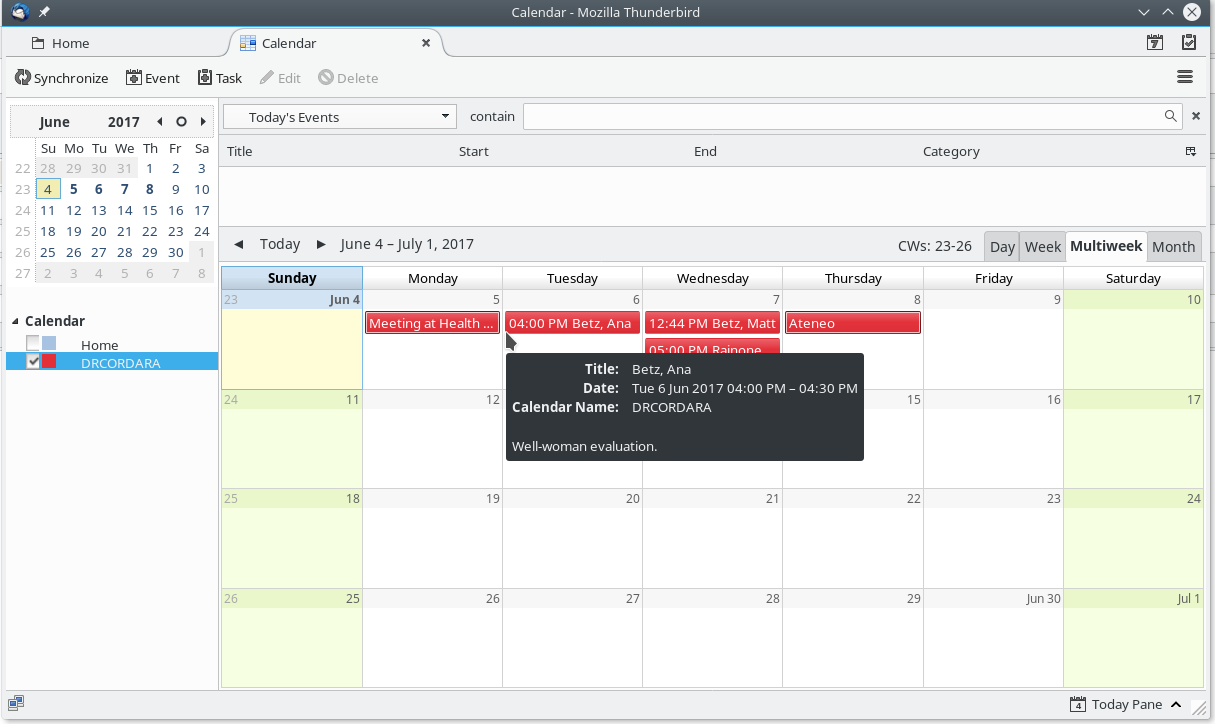button: (2, 27, 228, 55), (228, 27, 450, 55), (365, 309, 501, 334), (645, 310, 781, 334), (506, 310, 641, 334), (785, 311, 921, 334), (1066, 230, 1147, 263), (646, 338, 781, 354), (14, 67, 109, 87), (1148, 230, 1202, 263), (1019, 230, 1065, 263), (983, 230, 1019, 263), (317, 68, 379, 86), (125, 68, 180, 86), (197, 68, 243, 86), (259, 68, 302, 85), (10, 2, 30, 22), (1182, 2, 1202, 21), (1175, 67, 1195, 85), (1146, 33, 1164, 50), (1181, 33, 1197, 50), (1190, 700, 1207, 715), (25, 352, 39, 369), (41, 353, 56, 368), (1136, 5, 1152, 19), (1160, 5, 1176, 19), (1183, 144, 1199, 158), (25, 334, 39, 349), (231, 238, 245, 252), (37, 5, 50, 19), (42, 335, 55, 349), (314, 238, 327, 252), (1169, 698, 1183, 711), (420, 37, 433, 49), (1190, 110, 1202, 122), (175, 115, 187, 127), (439, 110, 452, 121), (198, 116, 208, 128), (155, 115, 163, 127), (10, 317, 19, 326)
common: (510, 438, 658, 454), (338, 236, 473, 253), (247, 109, 343, 126), (897, 237, 974, 254), (921, 142, 984, 160), (1090, 698, 1164, 712), (81, 357, 162, 369), (257, 236, 301, 254), (469, 109, 516, 123), (457, 143, 493, 159), (328, 291, 362, 307), (1025, 591, 1061, 606), (225, 143, 256, 159), (691, 142, 720, 159), (38, 114, 70, 129), (107, 115, 140, 129), (80, 339, 118, 351), (1176, 591, 1201, 607), (1184, 290, 1201, 310), (222, 590, 239, 606), (221, 292, 240, 306), (625, 490, 641, 506), (224, 393, 241, 408), (1186, 392, 1203, 407), (223, 491, 240, 506), (1185, 491, 1202, 506), (346, 392, 361, 408), (1047, 392, 1063, 407), (485, 491, 501, 506), (764, 491, 780, 506), (905, 591, 921, 606), (344, 592, 362, 605), (486, 393, 501, 408), (906, 392, 921, 407), (346, 491, 361, 506), (906, 491, 921, 506), (1046, 491, 1061, 506), (624, 591, 640, 605), (484, 592, 501, 605), (764, 592, 781, 605), (771, 291, 781, 307), (631, 292, 642, 306), (1051, 293, 1062, 307), (491, 292, 501, 307), (912, 292, 922, 306)
container: (217, 100, 1207, 689), (2, 97, 220, 691), (219, 135, 1209, 227), (7, 286, 218, 690), (220, 167, 1207, 226), (1, 56, 1209, 96), (506, 353, 864, 461), (1, 25, 1210, 56), (9, 105, 215, 285), (219, 227, 1204, 264), (1, 689, 1211, 719), (220, 135, 1207, 166), (1, 1, 1210, 25), (10, 105, 213, 137), (223, 104, 458, 130), (6, 332, 218, 352), (6, 352, 218, 370)
header: (509, 4, 702, 20), (23, 312, 87, 328)
image: (1068, 695, 1087, 714), (6, 694, 26, 712), (1163, 108, 1179, 124)
table: (221, 264, 1204, 688), (10, 138, 213, 283), (510, 359, 860, 418)
table-cell: (221, 289, 362, 390), (221, 488, 362, 588), (922, 488, 1063, 588), (781, 290, 923, 389), (362, 588, 502, 688), (502, 588, 642, 688), (502, 488, 642, 588), (642, 488, 782, 588), (782, 488, 922, 588), (502, 289, 642, 389), (221, 588, 362, 687), (782, 588, 923, 687), (501, 389, 642, 488), (922, 389, 1063, 488), (362, 289, 501, 389), (363, 488, 502, 588), (642, 289, 781, 389), (1063, 488, 1202, 588), (642, 588, 782, 687), (923, 588, 1063, 687), (782, 389, 922, 488), (1063, 588, 1203, 687), (221, 390, 362, 488), (923, 290, 1062, 389), (1063, 290, 1202, 389), (1063, 389, 1202, 488), (362, 390, 502, 488), (642, 389, 782, 487), (626, 360, 859, 379), (626, 379, 859, 398), (626, 398, 858, 416), (782, 265, 924, 289), (924, 265, 1064, 289), (1063, 265, 1203, 289), (363, 265, 502, 289), (642, 265, 781, 289), (220, 265, 362, 288), (503, 265, 642, 288), (510, 379, 626, 398), (510, 398, 626, 416), (510, 360, 625, 378), (111, 157, 138, 178), (111, 178, 138, 199), (111, 199, 138, 220), (111, 220, 138, 241), (111, 241, 138, 262), (111, 262, 138, 283), (60, 157, 86, 178), (187, 157, 213, 178), (60, 178, 86, 199), (187, 178, 213, 199), (60, 199, 86, 220), (187, 199, 213, 220), (187, 220, 213, 241), (60, 220, 86, 241), (60, 241, 86, 262), (187, 241, 213, 262), (60, 262, 86, 283), (187, 262, 213, 283), (35, 178, 60, 199), (35, 157, 60, 178), (10, 157, 35, 178), (10, 178, 35, 199), (86, 157, 111, 178), (162, 157, 187, 178), (86, 178, 111, 199), (162, 178, 187, 199), (10, 199, 35, 220), (35, 199, 60, 220), (86, 199, 111, 220), (162, 199, 187, 220), (10, 220, 35, 241), (162, 220, 187, 241), (86, 220, 111, 241), (35, 220, 60, 241), (10, 241, 35, 262), (35, 241, 60, 262), (86, 241, 111, 262), (162, 241, 187, 262), (10, 262, 35, 283), (35, 262, 60, 283), (86, 262, 111, 283), (162, 262, 187, 283), (111, 138, 138, 157), (138, 157, 162, 178), (138, 178, 162, 199), (138, 199, 162, 220), (138, 220, 162, 241), (138, 241, 162, 262), (138, 262, 162, 283), (60, 138, 86, 157), (187, 138, 213, 157), (10, 138, 35, 157), (35, 138, 60, 157), (86, 138, 111, 157), (162, 138, 187, 157), (138, 138, 162, 157)
table-row: (221, 288, 1202, 389), (221, 588, 1204, 687), (221, 389, 1203, 488), (221, 488, 1203, 587), (221, 265, 1203, 288), (511, 378, 859, 398), (511, 360, 859, 379), (511, 398, 859, 417), (10, 157, 213, 178), (10, 178, 213, 199), (10, 199, 213, 220), (10, 220, 213, 241), (10, 241, 213, 262), (10, 262, 213, 283), (10, 138, 213, 157)
text-input: (522, 102, 1183, 130)
